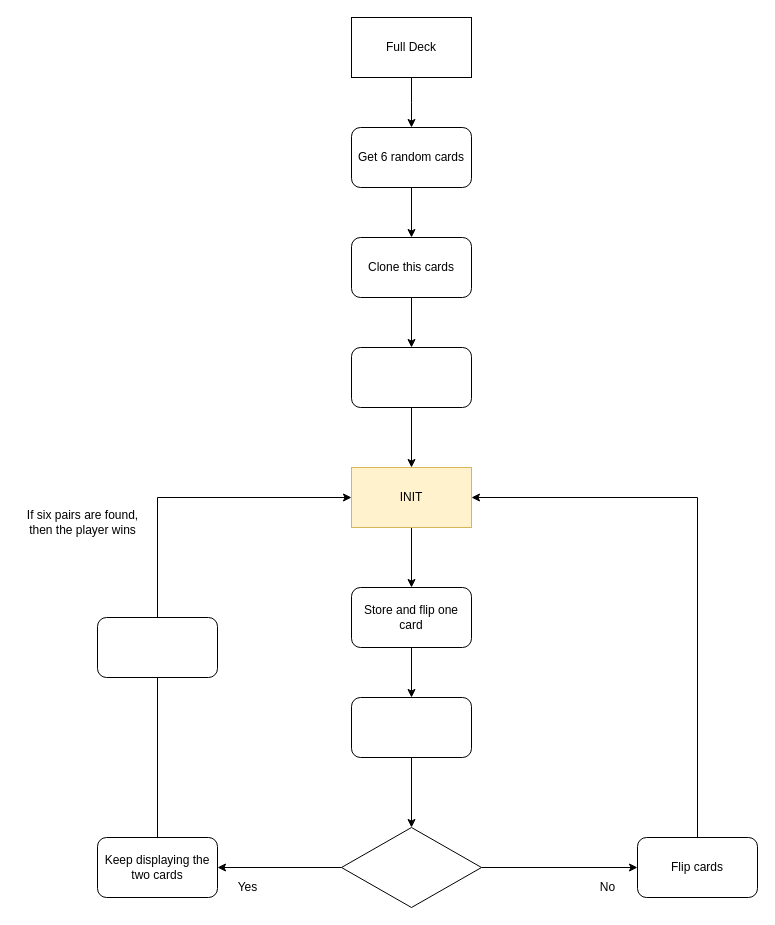
Some shapes in this 775 by 925 pixel diagram are drawn without their labels. The centre of each missing label's shape, as x and y in pixels:
Display cards: point (411, 377)
Is it equal?: point (411, 867)
Store and flip other card: point (411, 727)
Store in "foundCards": point (157, 647)
